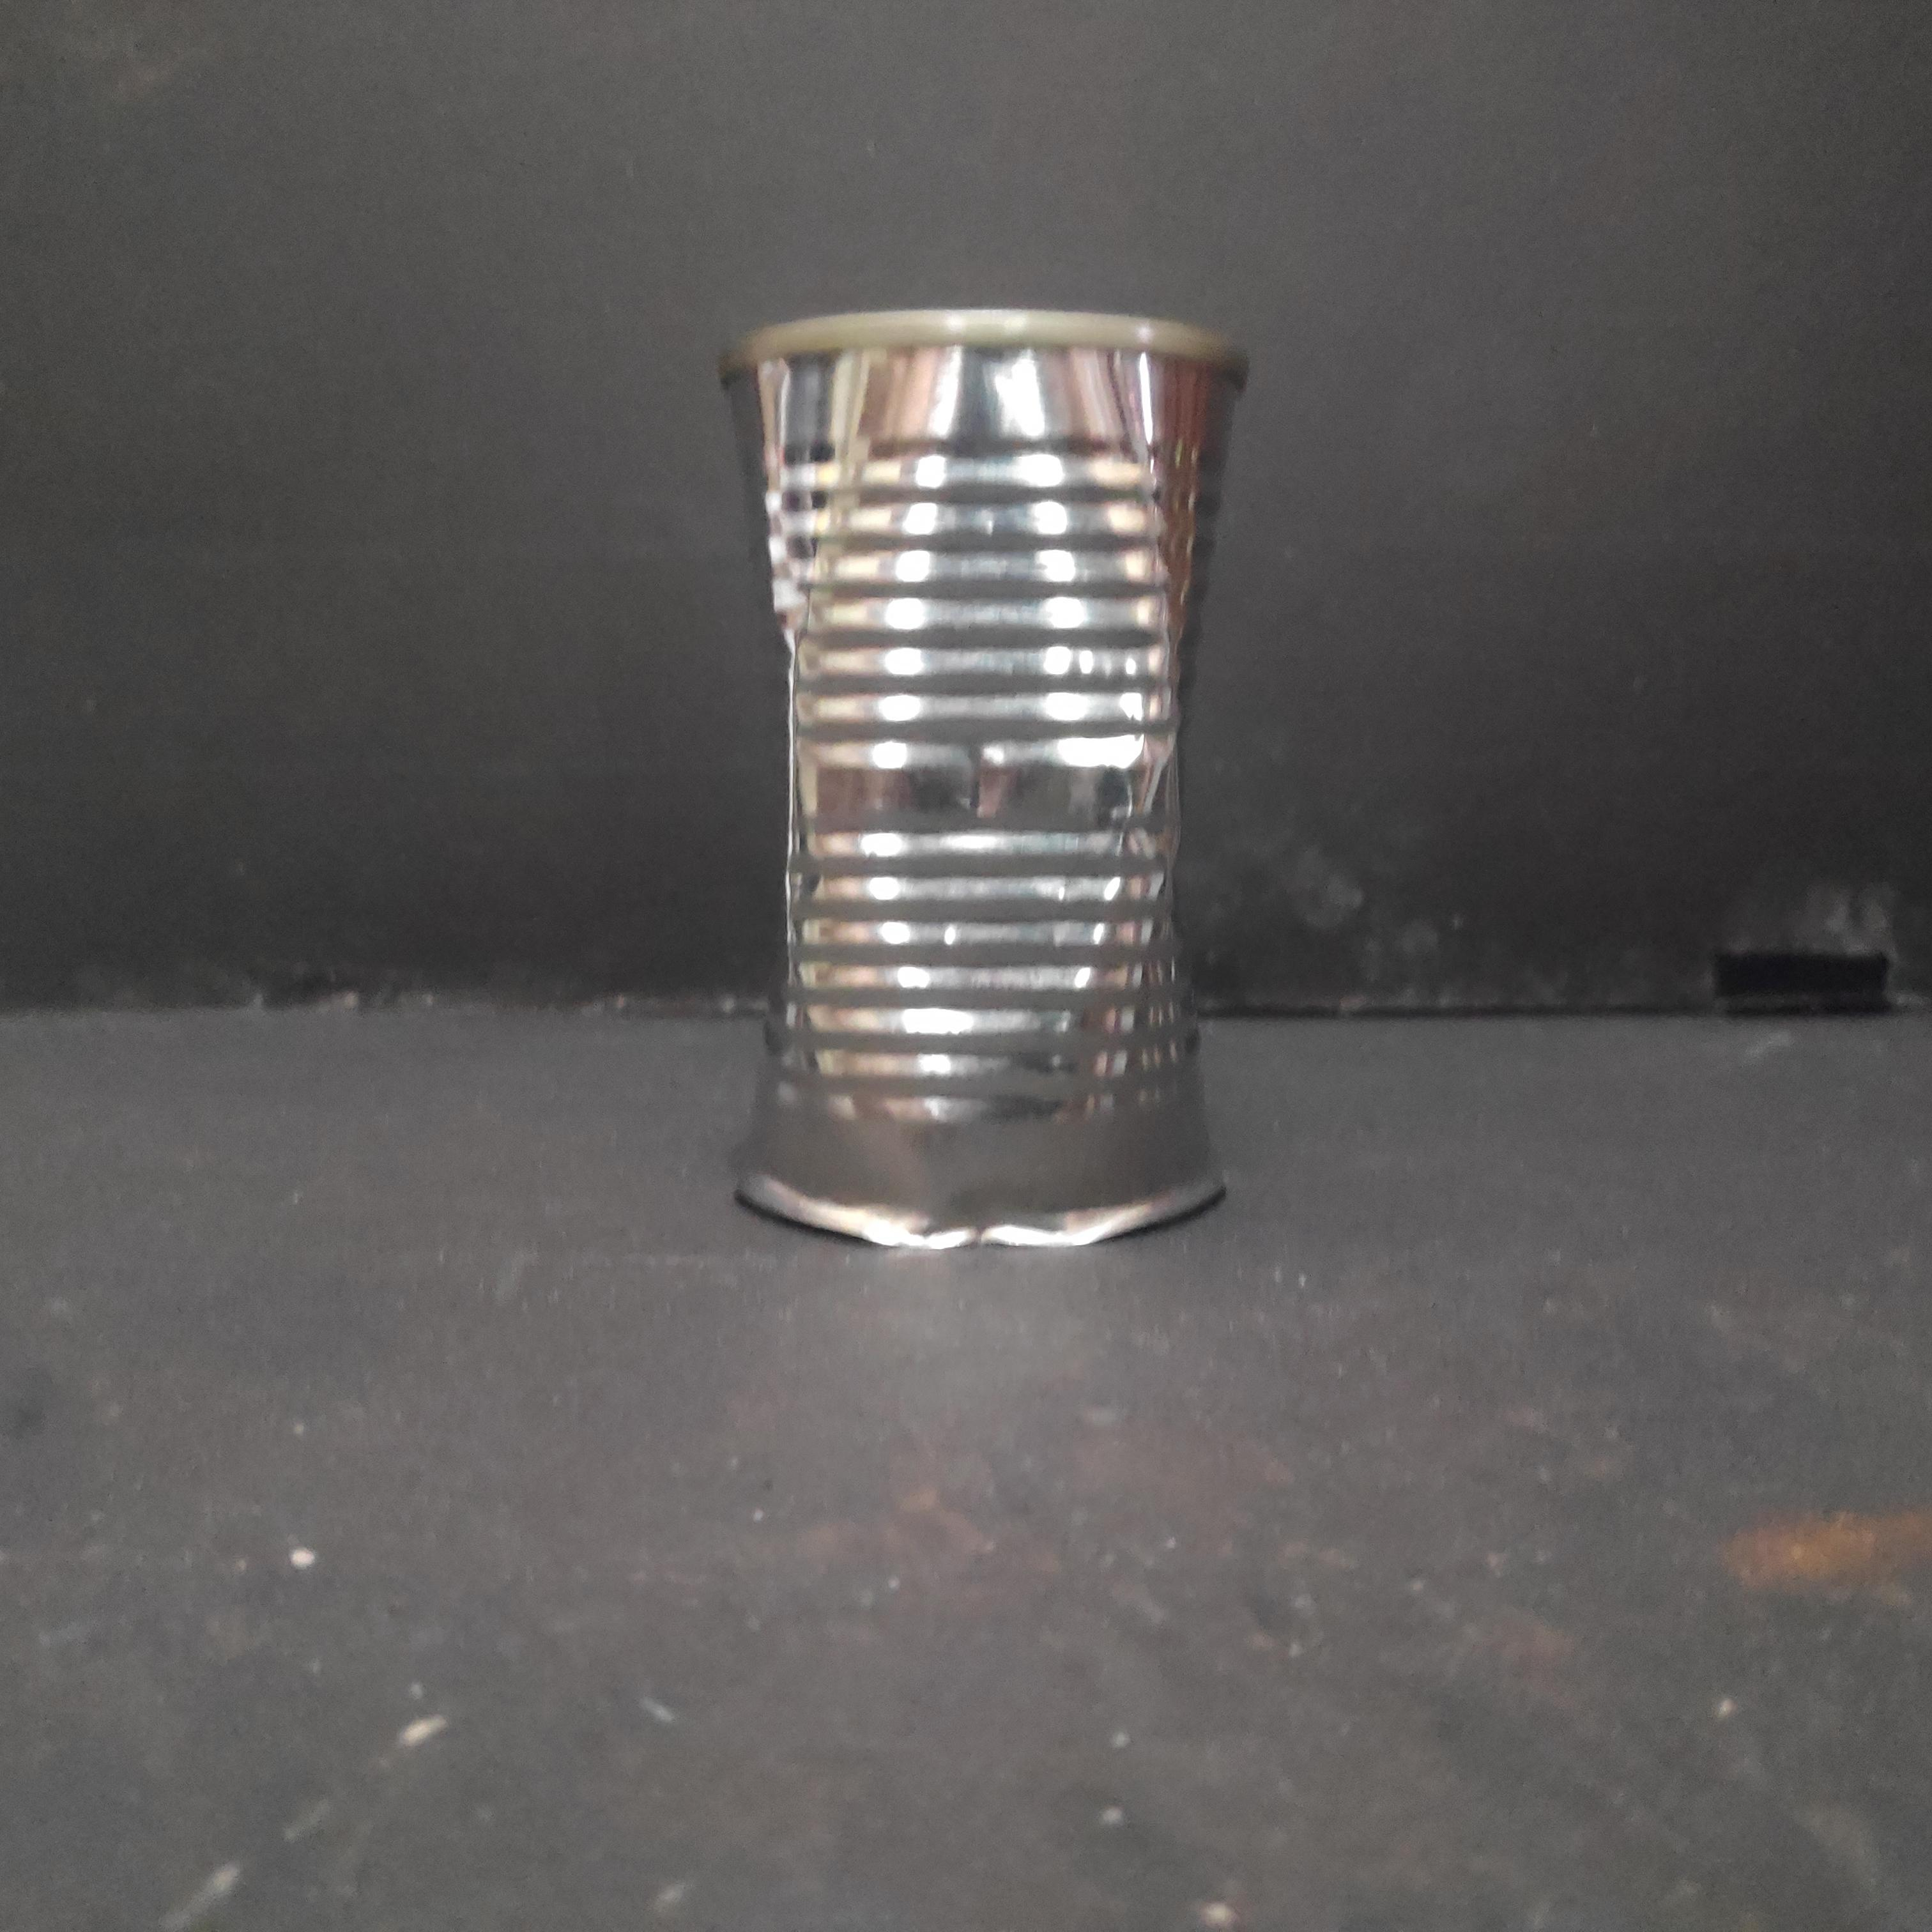Minor Defect: (714, 304, 1259, 1269)
